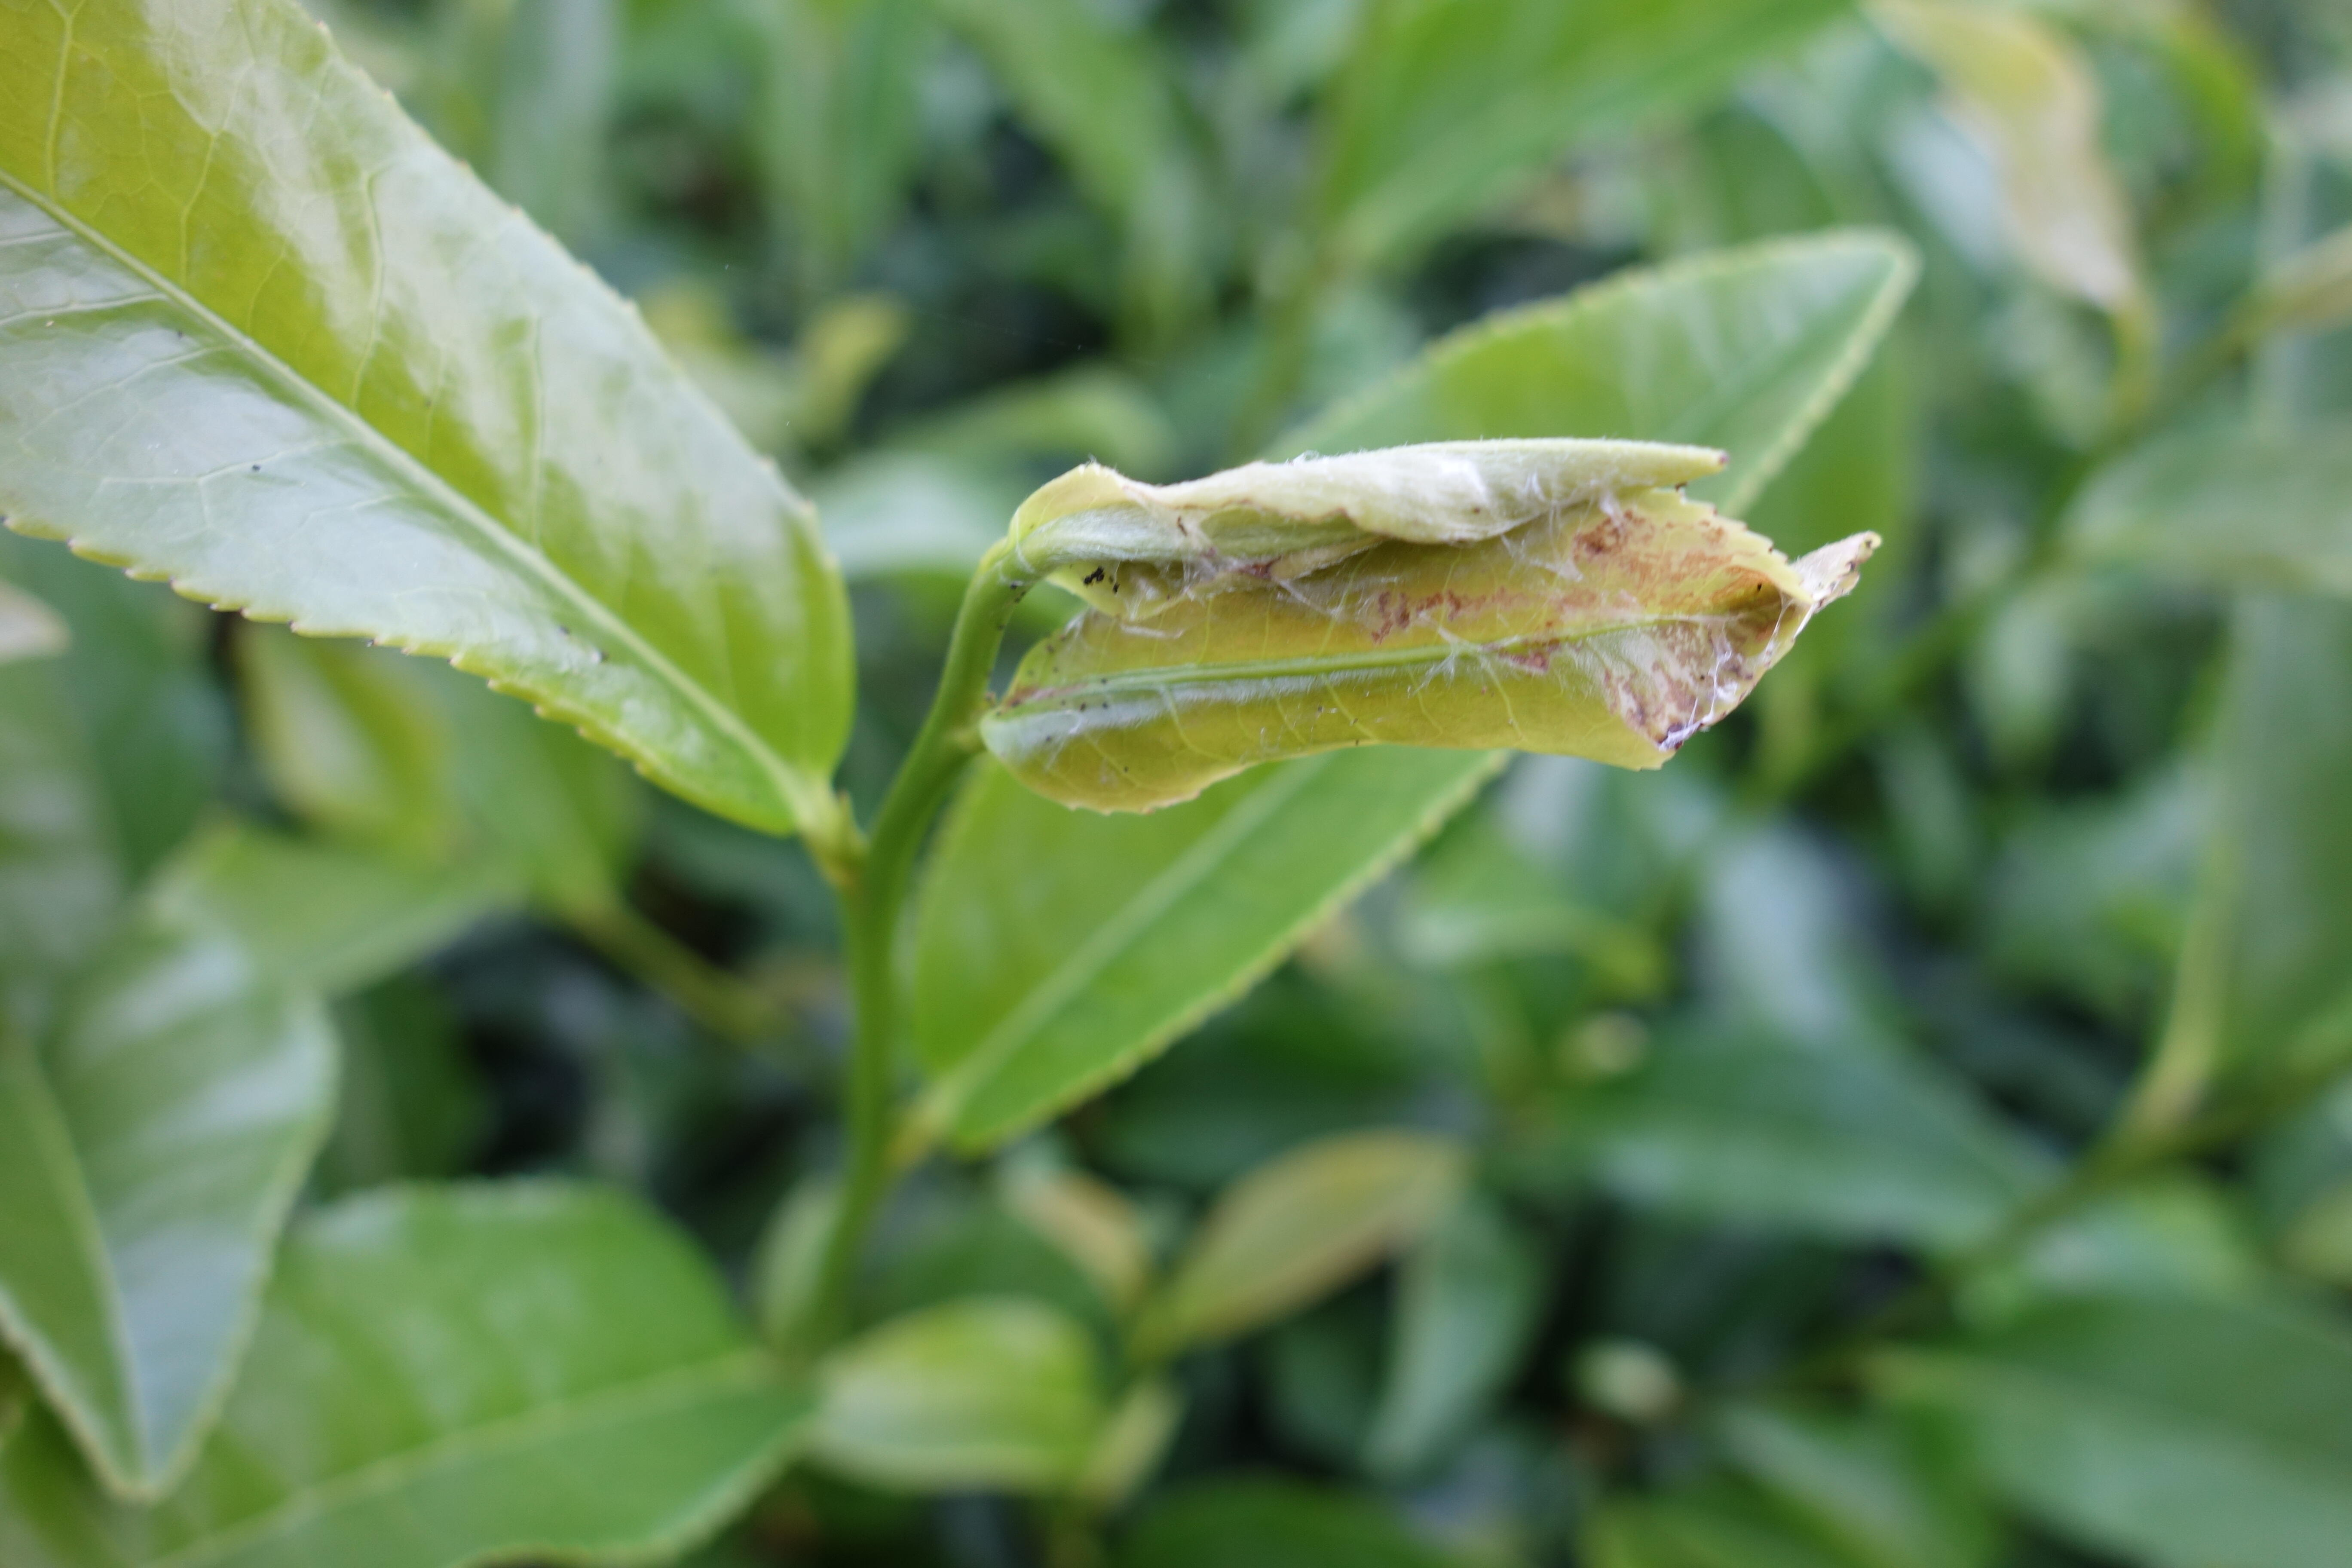healthy: (3, 5, 873, 842)
tanju_low: (1003, 432, 1881, 817)
